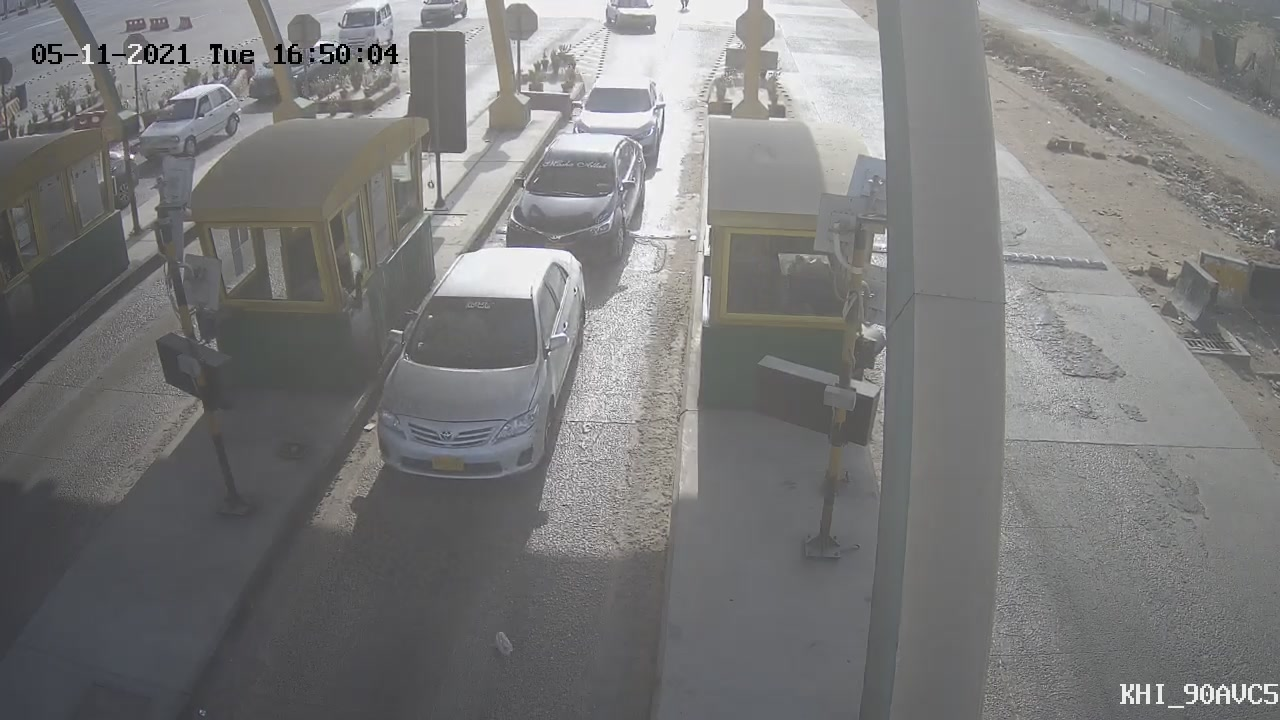F1: (368, 238, 595, 497), (489, 120, 655, 281)
